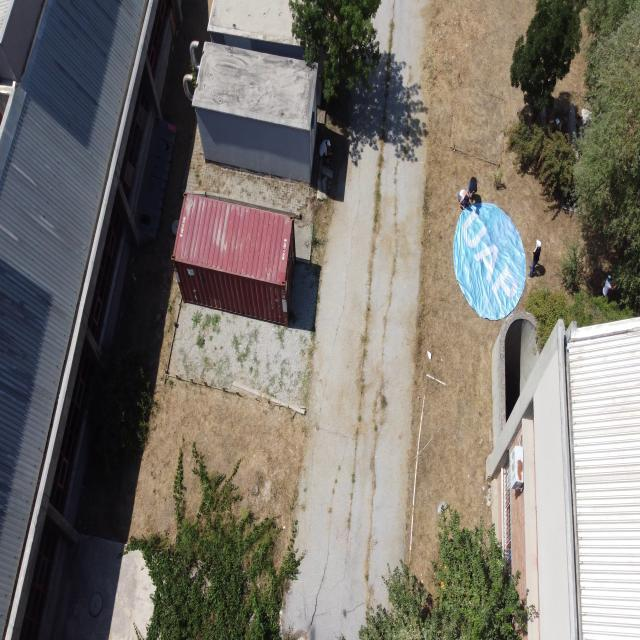vehicle: (454, 200, 527, 320), (528, 239, 541, 277), (318, 140, 332, 168), (602, 275, 618, 297), (466, 177, 477, 205), (458, 188, 470, 211)
